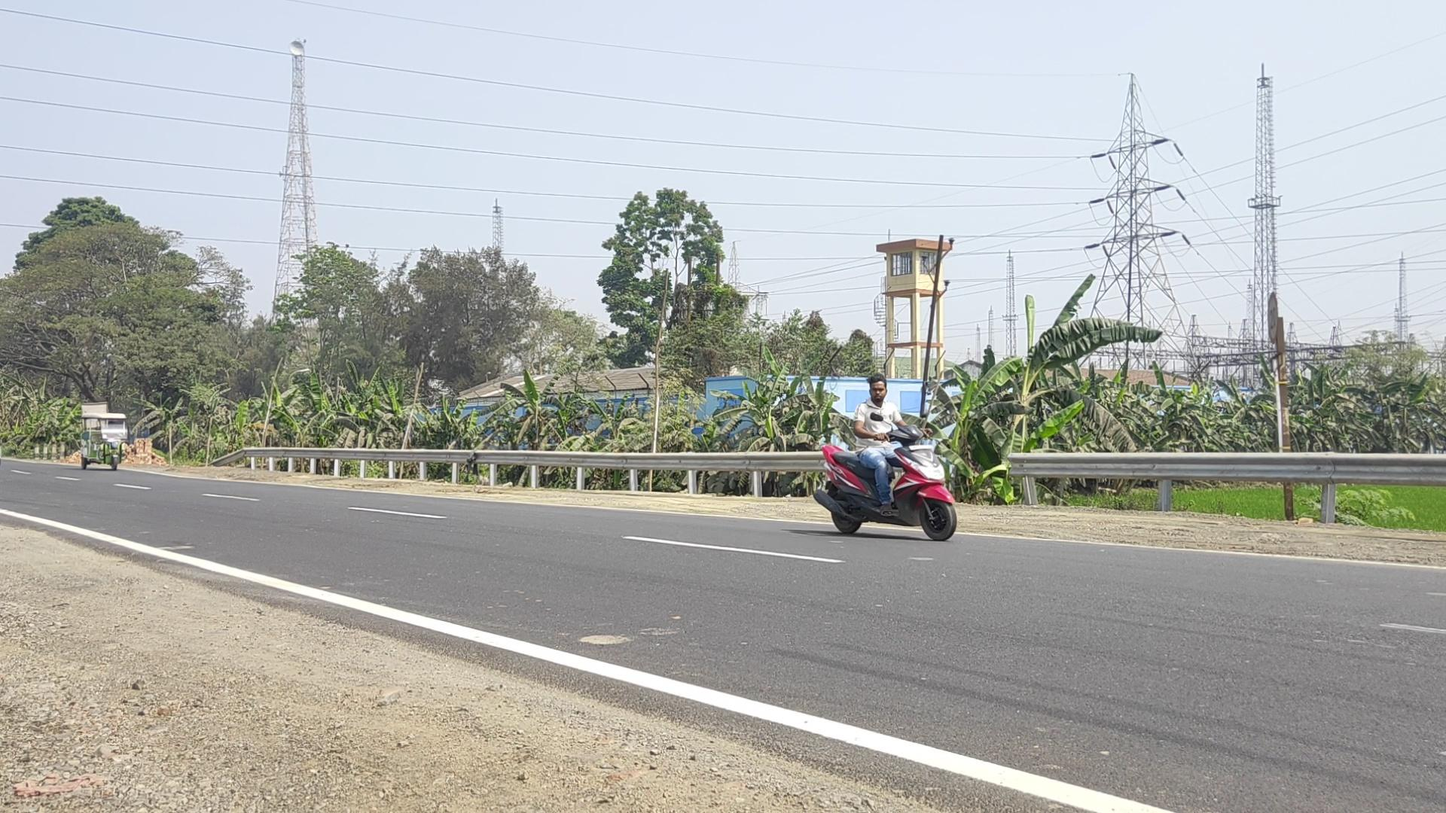Auto: (80, 413, 130, 471)
bike: (813, 373, 957, 541)
